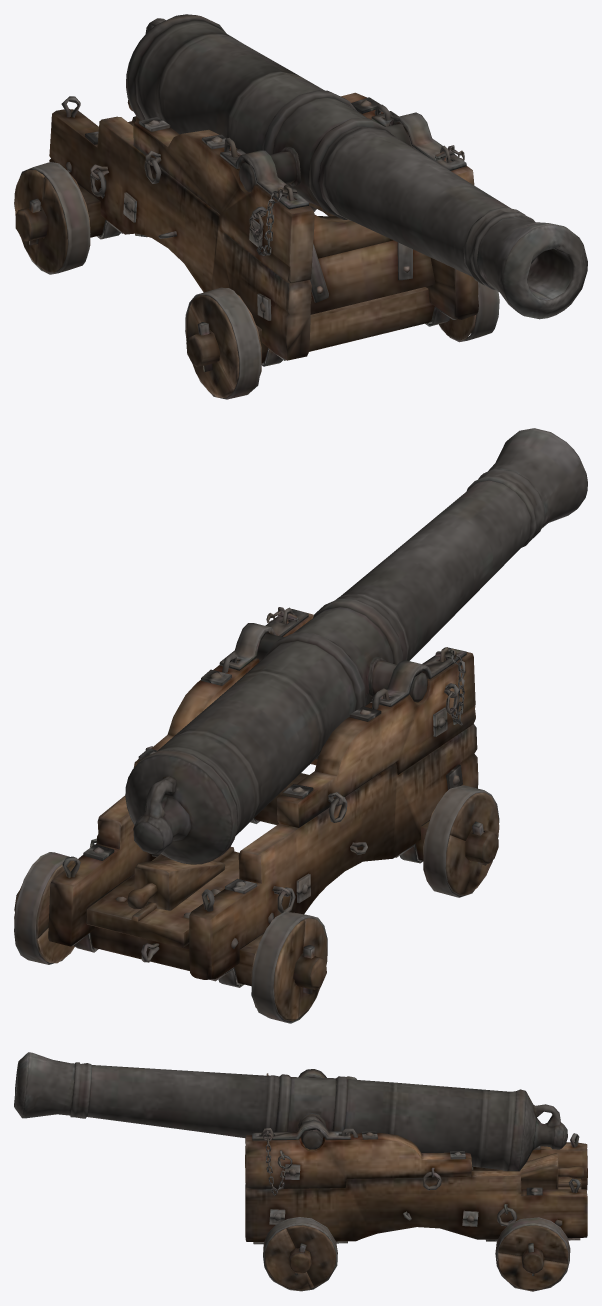
Rendered from cannon_01.glb.
3 renders of one model, top to bottom at view 1: azimuth 30°, elevation 25°; view 2: azimuth 150°, elevation 25°; view 3: azimuth 270°, elevation 25°, orthographic. The views are drawn at different scales.
Parts seen in each view (by area): view 1: cannon_01_frame, cannon_01_barrel, cannon_01_wheel_01, cannon_01_wheel_02, cannon_01_wheel_03; view 2: cannon_01_frame, cannon_01_barrel, cannon_01_wheel_01, cannon_01_wheel_02, cannon_01_wheel_04, cannon_01_pusherblock; view 3: cannon_01_barrel, cannon_01_frame, cannon_01_wheel_04, cannon_01_wheel_03, cannon_01_pusherblock.
Part boxes in pixels (x1,y1,x2,y2): cannon_01_frame: (15, 92, 478, 371); cannon_01_barrel: (126, 14, 587, 319); cannon_01_wheel_01: (185, 287, 261, 399); cannon_01_wheel_02: (14, 162, 90, 274); cannon_01_wheel_03: (439, 282, 499, 342); cannon_01_frame: (14, 607, 498, 994); cannon_01_barrel: (125, 428, 587, 864); cannon_01_wheel_01: (423, 785, 499, 897); cannon_01_wheel_02: (251, 911, 327, 1023); cannon_01_wheel_04: (14, 852, 74, 964); cannon_01_pusherblock: (127, 858, 225, 910); cannon_01_barrel: (14, 1052, 567, 1171); cannon_01_frame: (245, 1069, 587, 1275); cannon_01_wheel_04: (495, 1217, 570, 1291); cannon_01_wheel_03: (263, 1217, 337, 1291); cannon_01_pusherblock: (496, 1153, 583, 1189).
Size of the model in its own units: 0.9381 by 0.8563 by 2.3.
1 material, 1 textured.
